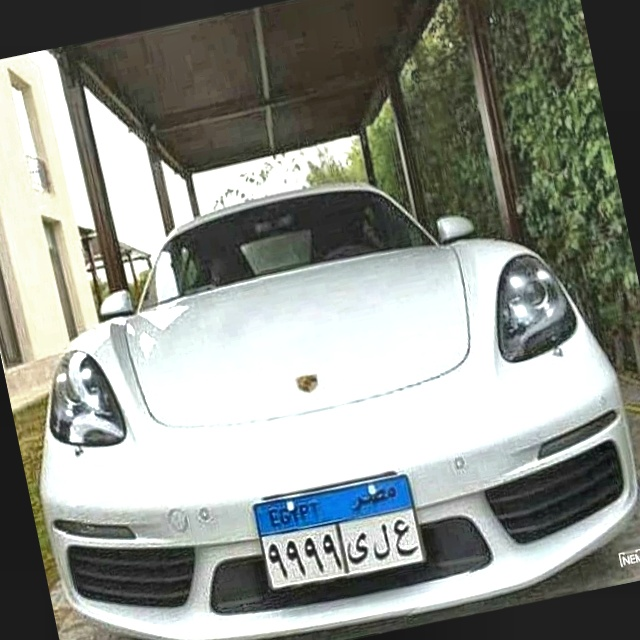License Plate: (248, 467, 430, 598)
